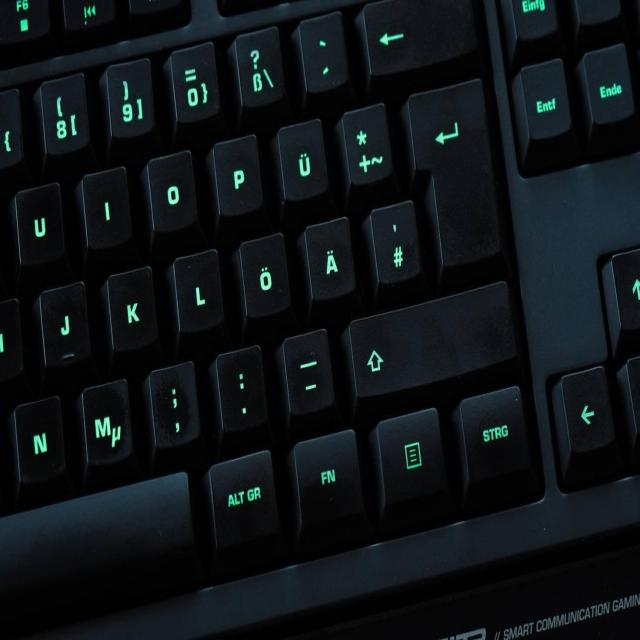0: (167, 39, 221, 128)
8: (37, 70, 91, 161)
9: (103, 56, 155, 144)
accent: (296, 6, 349, 94)
ae: (301, 213, 356, 304)
altgr-right: (206, 445, 281, 551)
comma: (146, 357, 201, 449)
del: (356, 3, 481, 77)
enter: (398, 71, 501, 275)
hash: (368, 196, 423, 287)
i: (80, 163, 132, 251)
j: (37, 277, 90, 372)
k: (104, 264, 158, 353)
l: (171, 245, 224, 335)
m: (79, 374, 134, 470)
minus: (280, 325, 335, 417)
n: (12, 391, 66, 487)
o: (145, 146, 199, 236)
oe: (237, 229, 292, 321)
p: (209, 130, 264, 219)
plus: (339, 101, 394, 190)
point: (213, 342, 268, 432)
shift-right: (340, 279, 516, 400)
space: (2, 466, 197, 636)
ss: (231, 25, 285, 113)
strg-right: (456, 383, 532, 487)
u: (12, 179, 66, 270)
ue: (275, 115, 329, 204)
